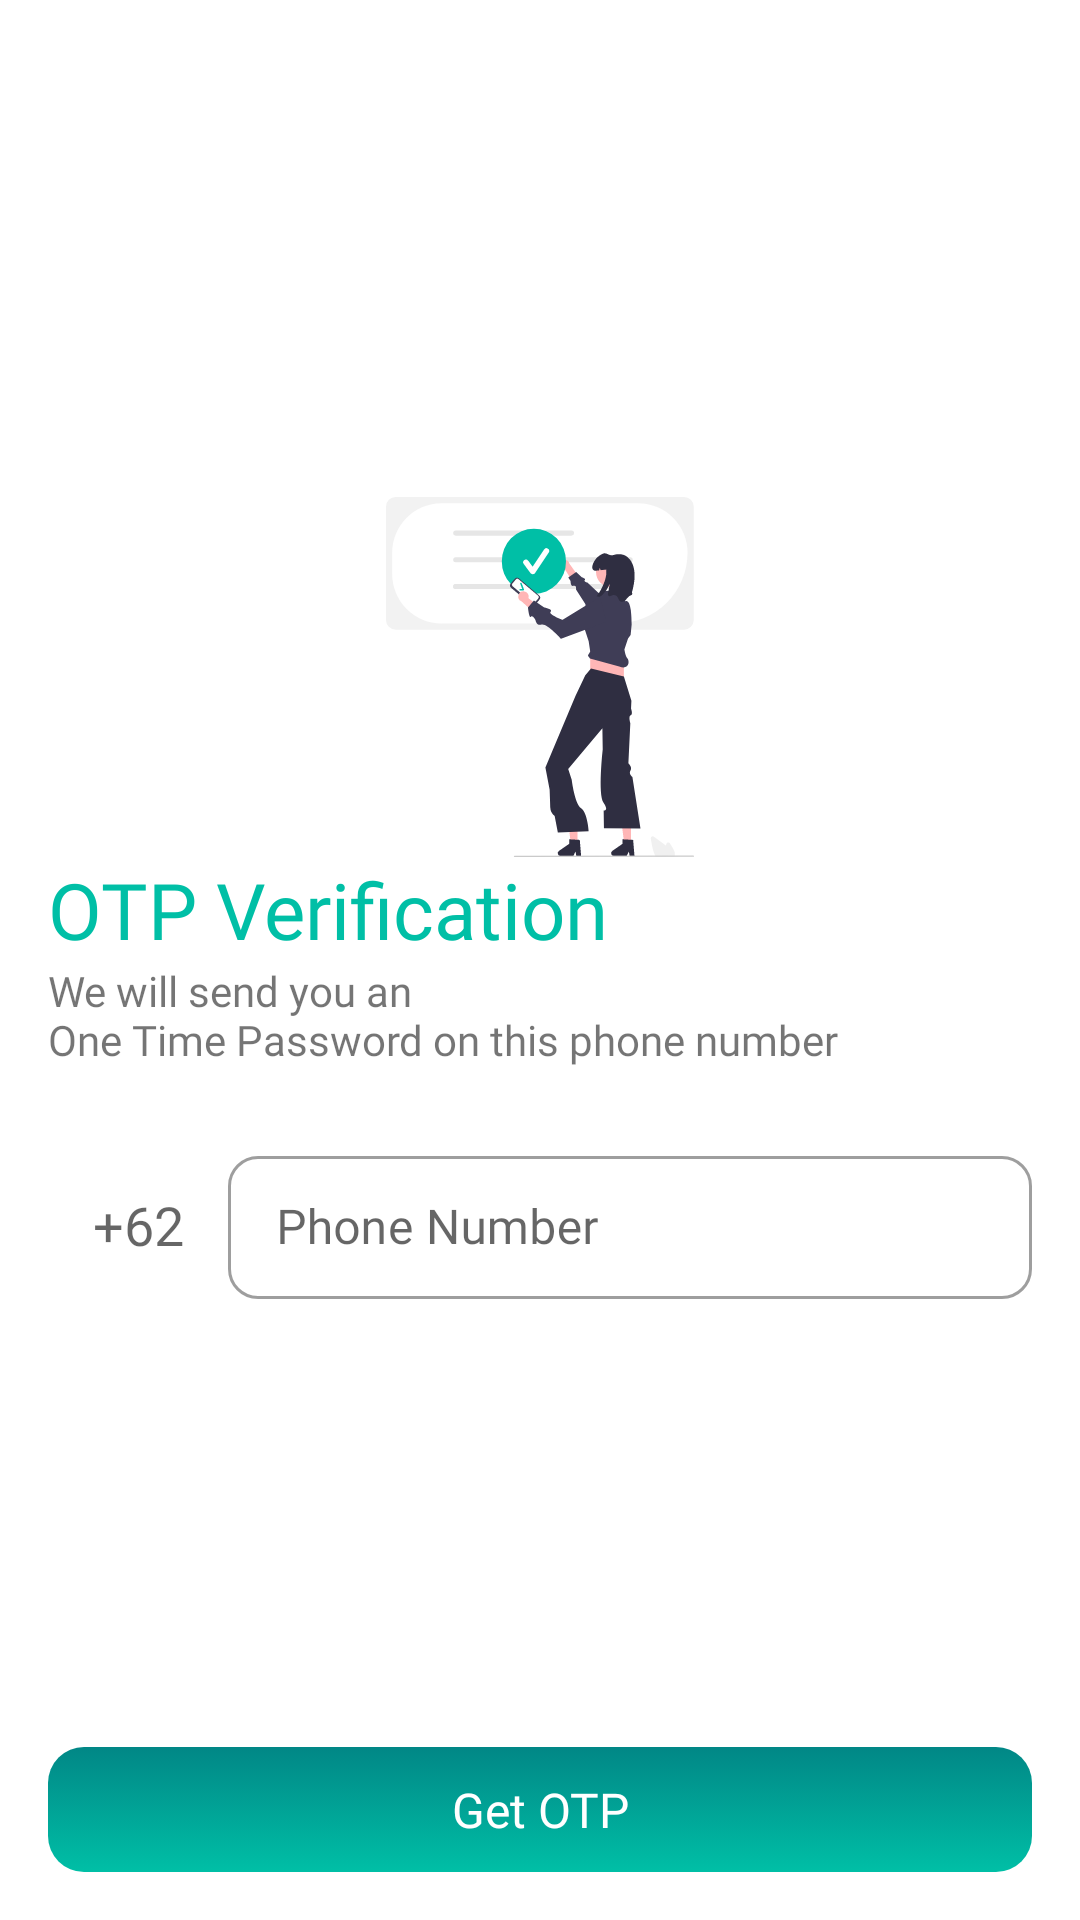

Icon bounding boxes for this 1080 x 1920 phone screenshot, format rect(x1, y1, x2, y2):
sport input otp: rect(454, 528, 694, 857)
